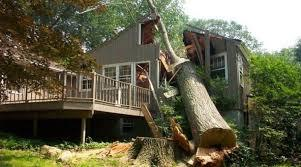Downstairs: (145, 3, 236, 164)
